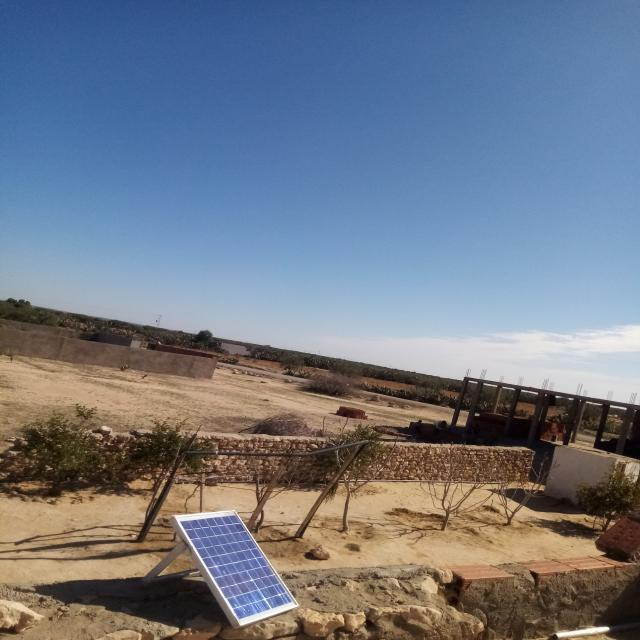Normal Solar Panel: (174, 510, 299, 625)
